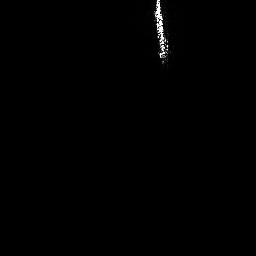ship: (152, 1, 170, 66)
